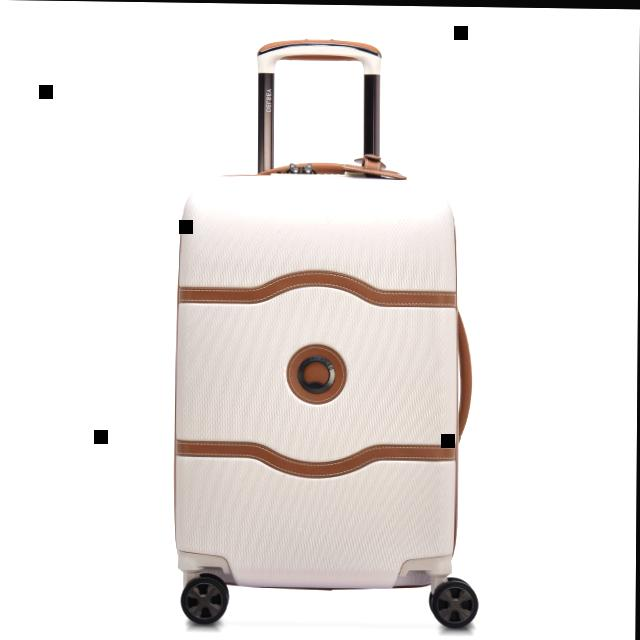luggage: (165, 150, 484, 640)
